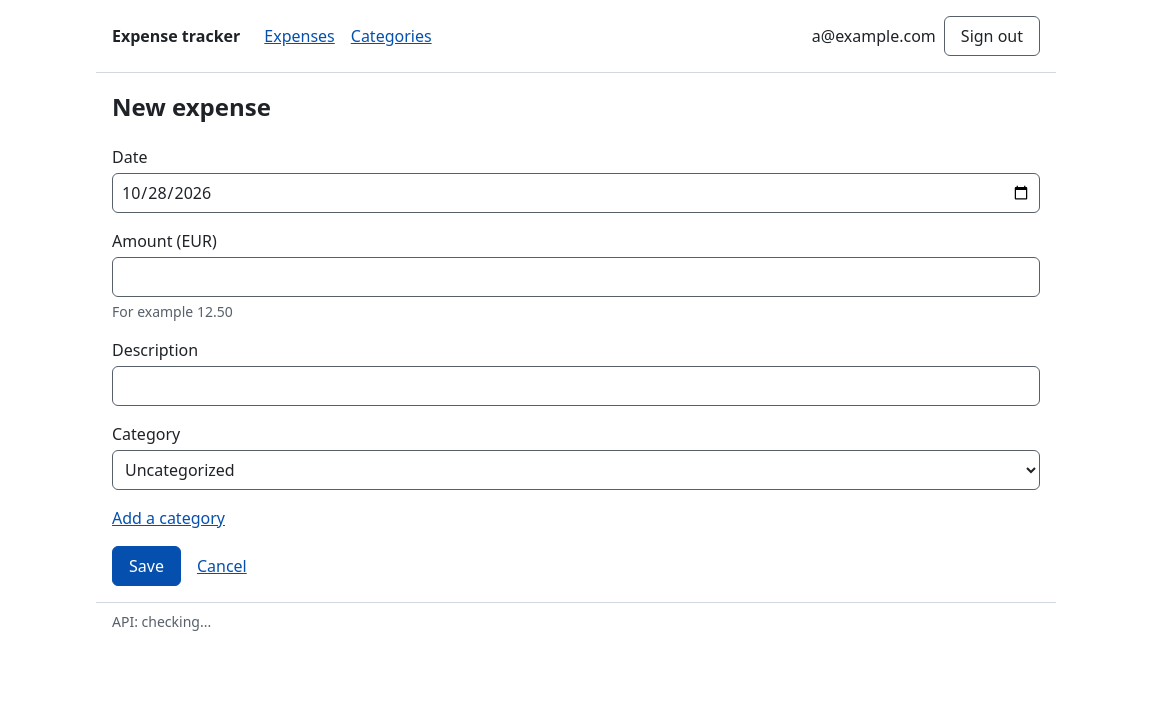
Test: saving a new expense in the whole app › lands on /expenses and shows "Expense saved" in the flash region
The width and height of the screenshot is (1152, 720).
Type "12,50" into the field with id "expense-amount" at (576, 277), box [112, 257, 1040, 297]
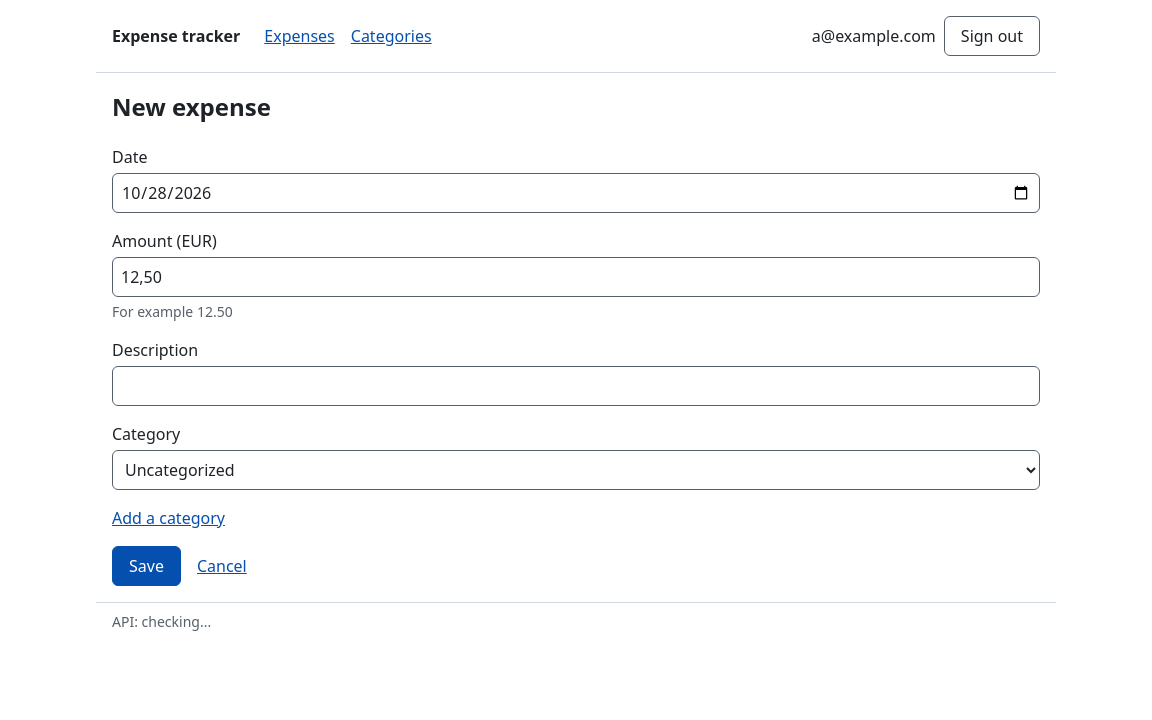
Type "Lunch" into the field with id "expense-description" at (576, 386), box [112, 366, 1040, 406]
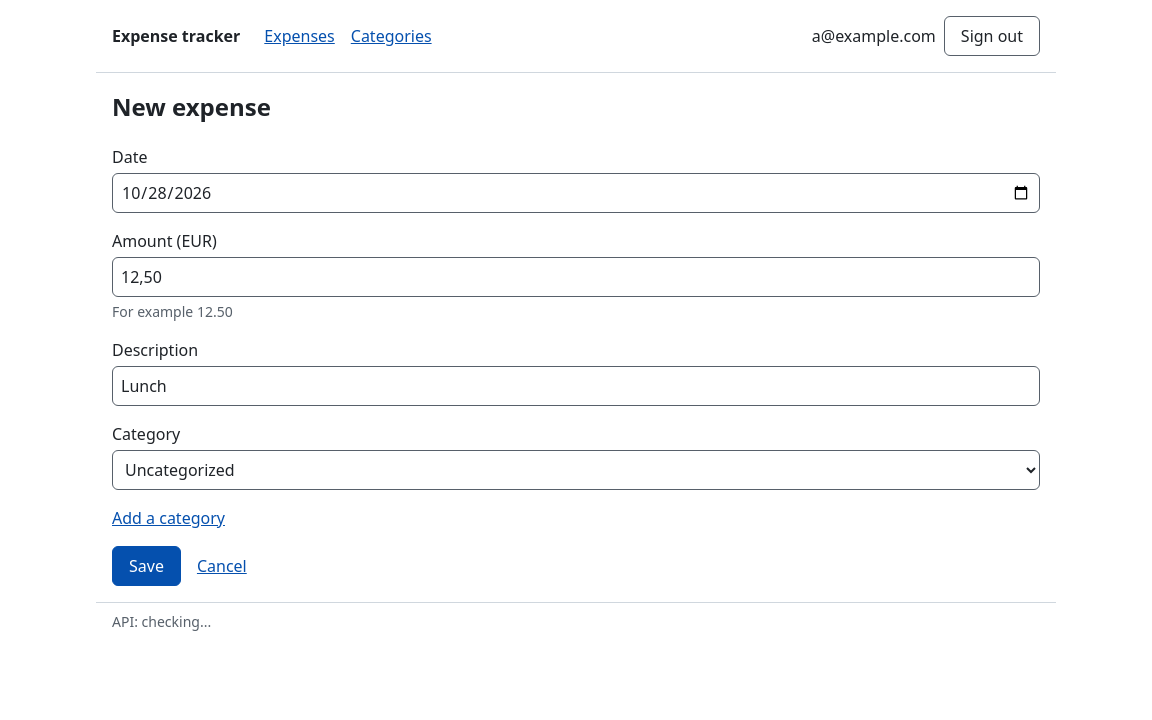
Submit the form, box [112, 145, 1040, 586]
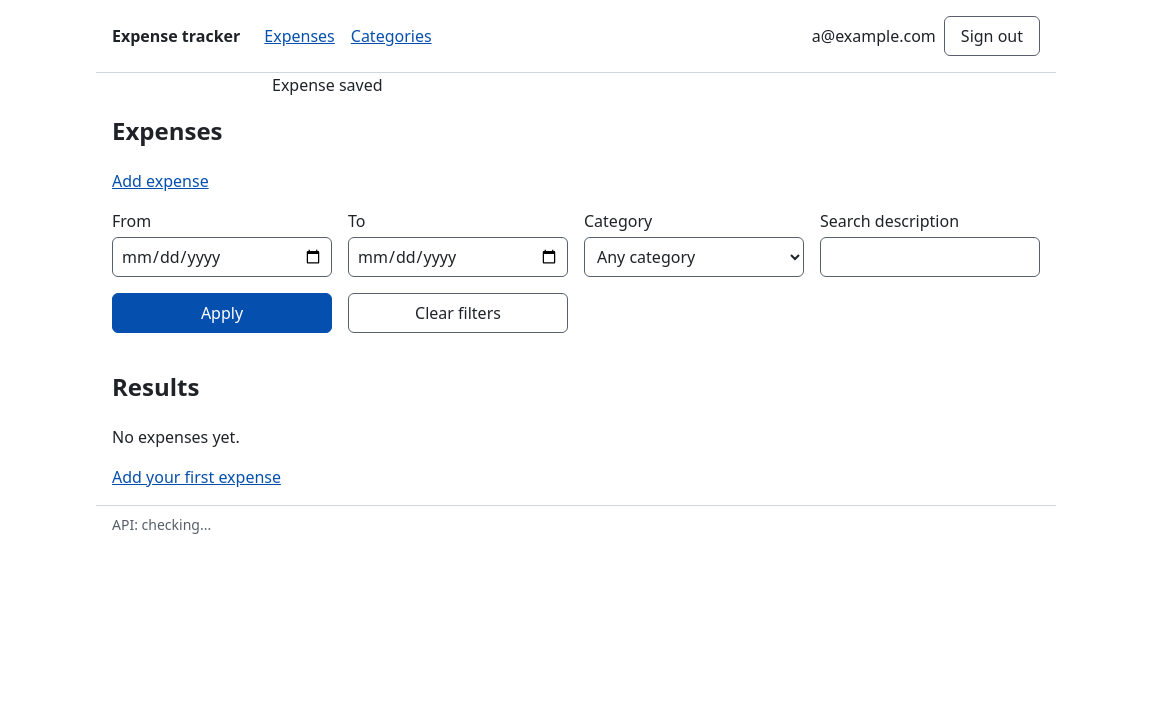
Now the text with class "flash" reads "Expense saved", box [272, 74, 383, 96]
